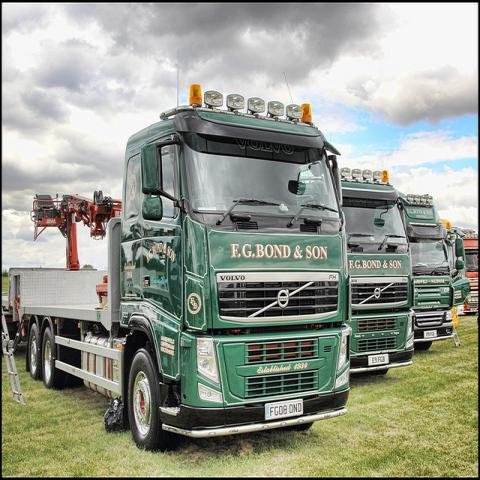truck: (9, 88, 349, 455), (340, 167, 416, 378), (399, 194, 469, 352), (443, 219, 479, 315)
